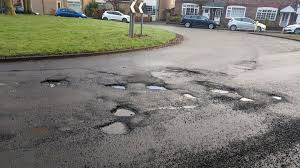pothole: (201, 79, 256, 111), (102, 102, 141, 138), (41, 74, 71, 93), (143, 78, 169, 94), (173, 65, 202, 78), (106, 80, 129, 93), (180, 89, 197, 100), (268, 92, 285, 102)
